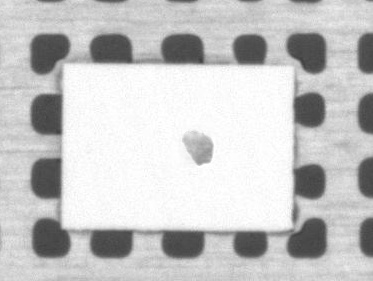DIE_INK: (180, 128, 213, 168)
